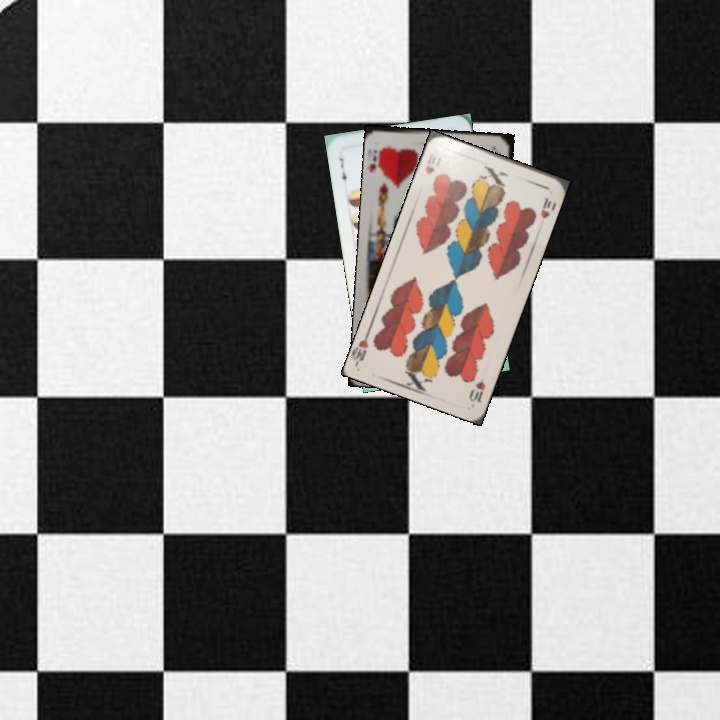E7: (335, 154, 349, 188)
H10: (421, 149, 444, 177), (465, 377, 488, 405)
HK: (369, 143, 387, 179)
